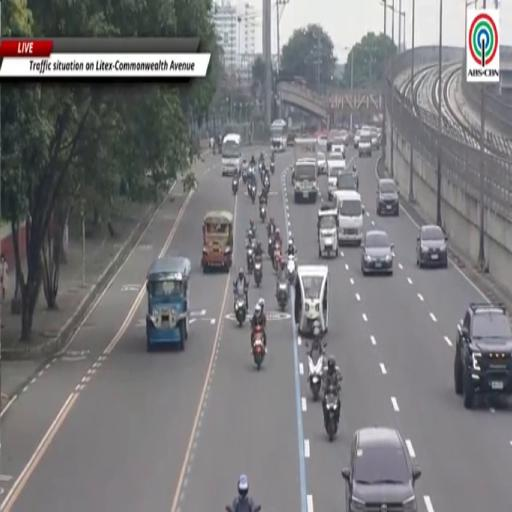car: (342, 427, 420, 511), (454, 303, 511, 409), (361, 230, 393, 275), (417, 224, 447, 267), (376, 179, 399, 216), (336, 170, 357, 190), (358, 132, 372, 157), (370, 127, 380, 150), (317, 152, 327, 174), (287, 133, 295, 147), (354, 131, 360, 149)
jeepney: (146, 258, 191, 351), (202, 211, 233, 273), (294, 138, 318, 202), (318, 203, 338, 258)
motorcycle: (308, 352, 323, 401), (324, 393, 339, 441), (252, 326, 264, 370), (235, 295, 247, 327), (277, 282, 288, 312), (287, 255, 296, 284), (254, 256, 262, 286), (246, 245, 254, 274), (273, 244, 281, 271), (262, 174, 270, 195), (248, 184, 256, 203), (259, 203, 266, 222), (268, 236, 273, 260), (232, 176, 238, 195), (242, 165, 247, 184), (354, 173, 359, 191), (259, 163, 263, 178), (270, 163, 275, 174), (226, 506, 236, 511)
truck: (222, 134, 241, 175), (270, 120, 287, 152)
